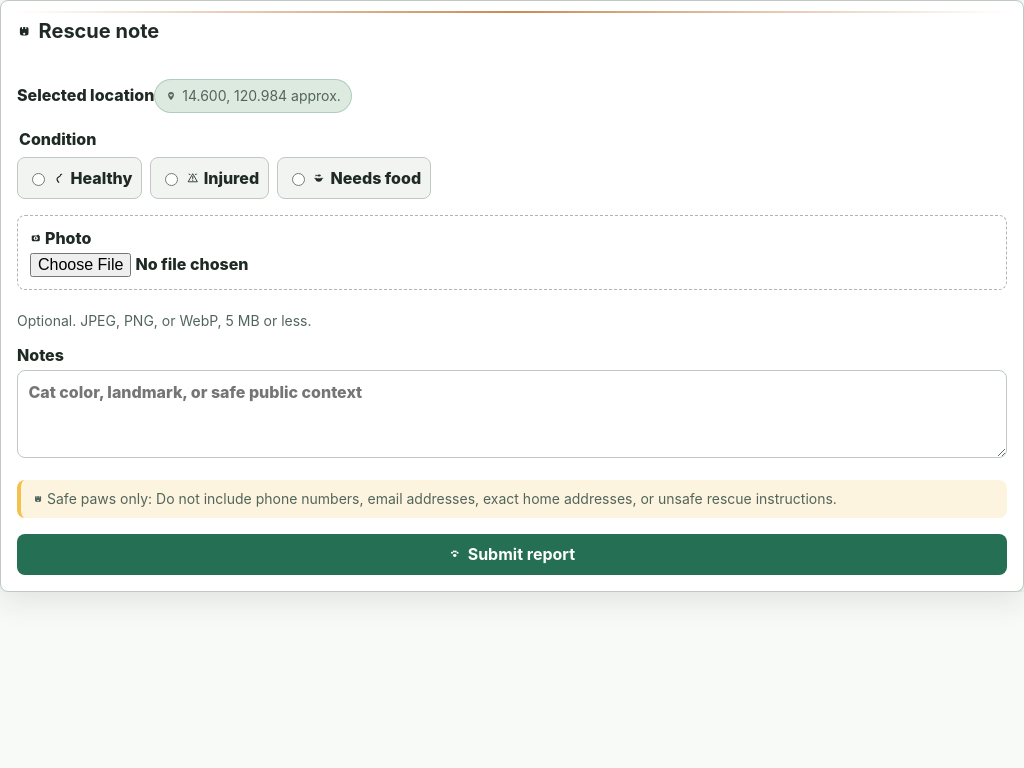
ReportForm › submits a valid report and shows success
Click the radio button labelled "Injured": (172, 179) [165, 173, 178, 186]
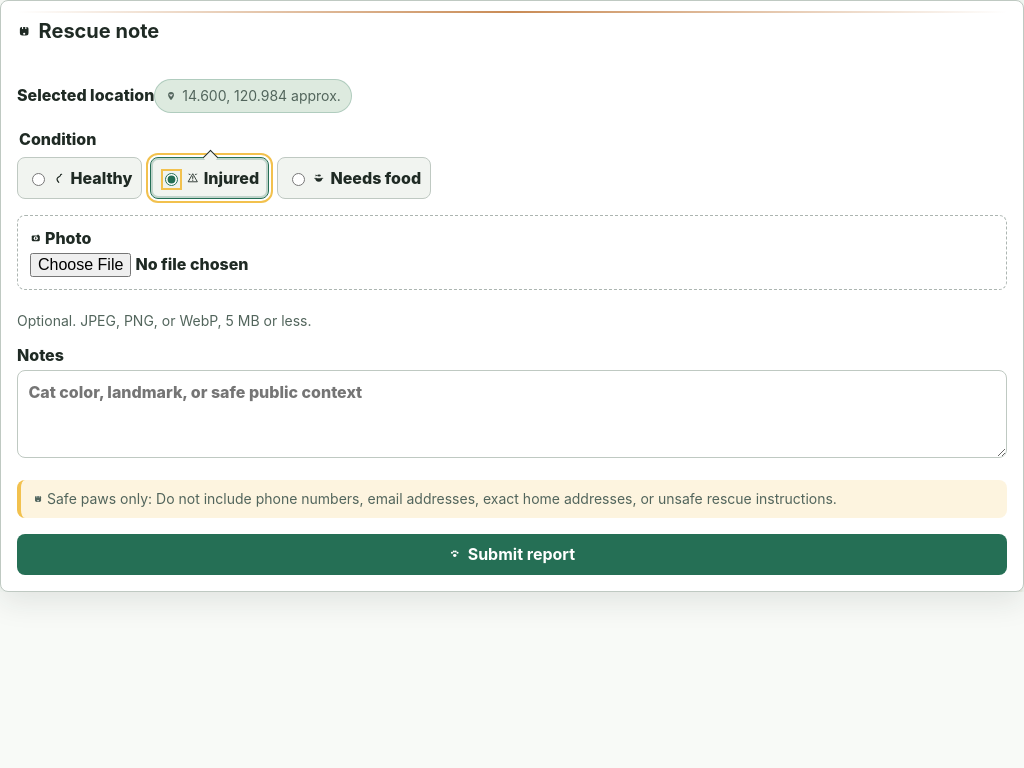
In the text box labelled "Notes": (512, 414) [17, 370, 1007, 458], type "Orange cat near the market."
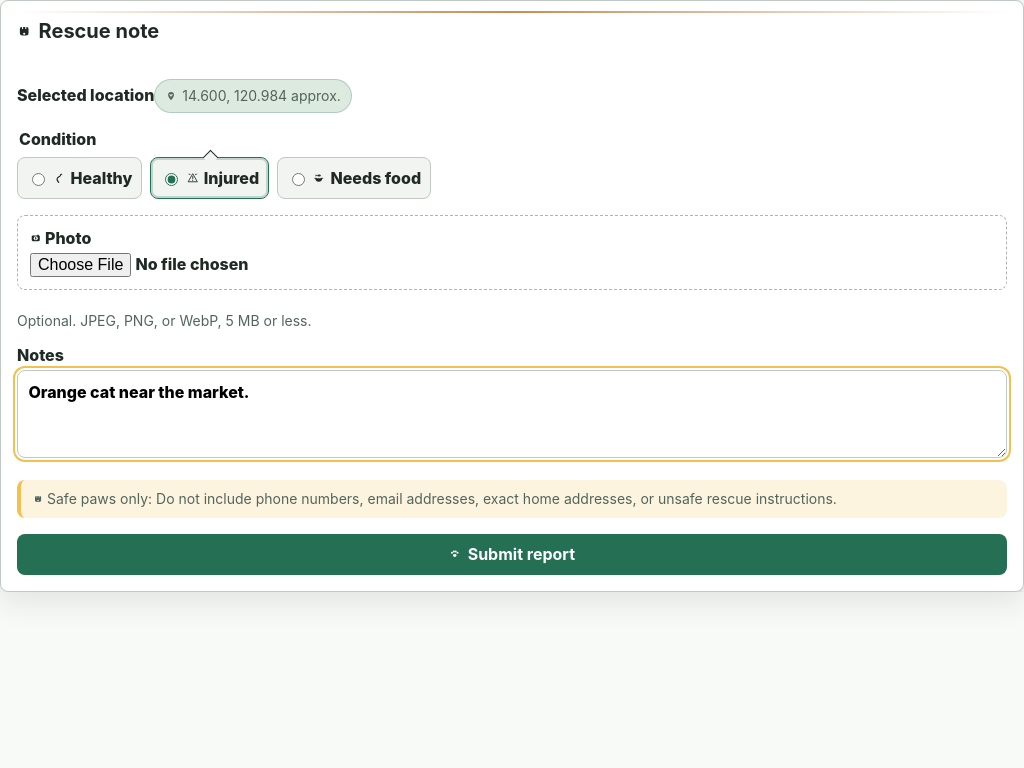
Click the button "Submit report": (512, 554) [17, 534, 1007, 575]
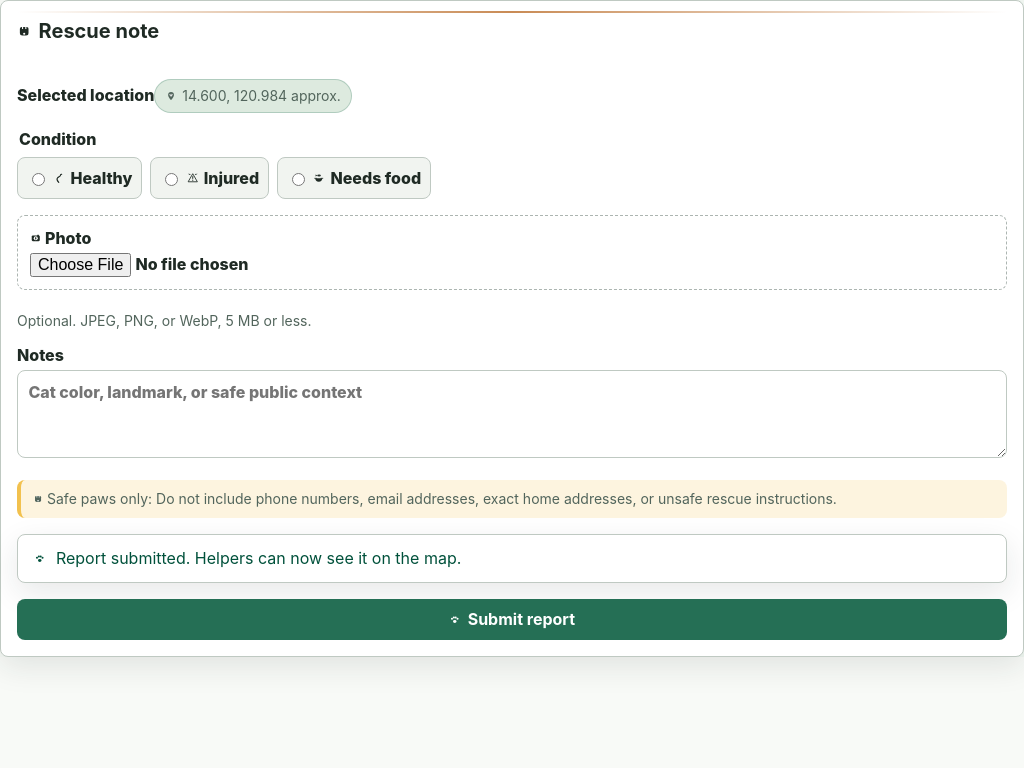
Expected: the text "Report submitted. Helpers can now see it on the map." is shown, [56, 548, 461, 568]
